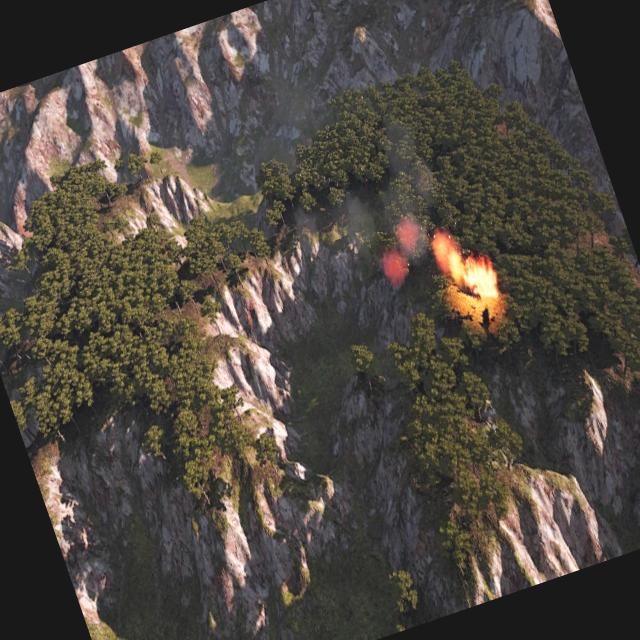fire: (430, 222, 508, 320)
smoke: (368, 205, 452, 292), (377, 244, 412, 292)
